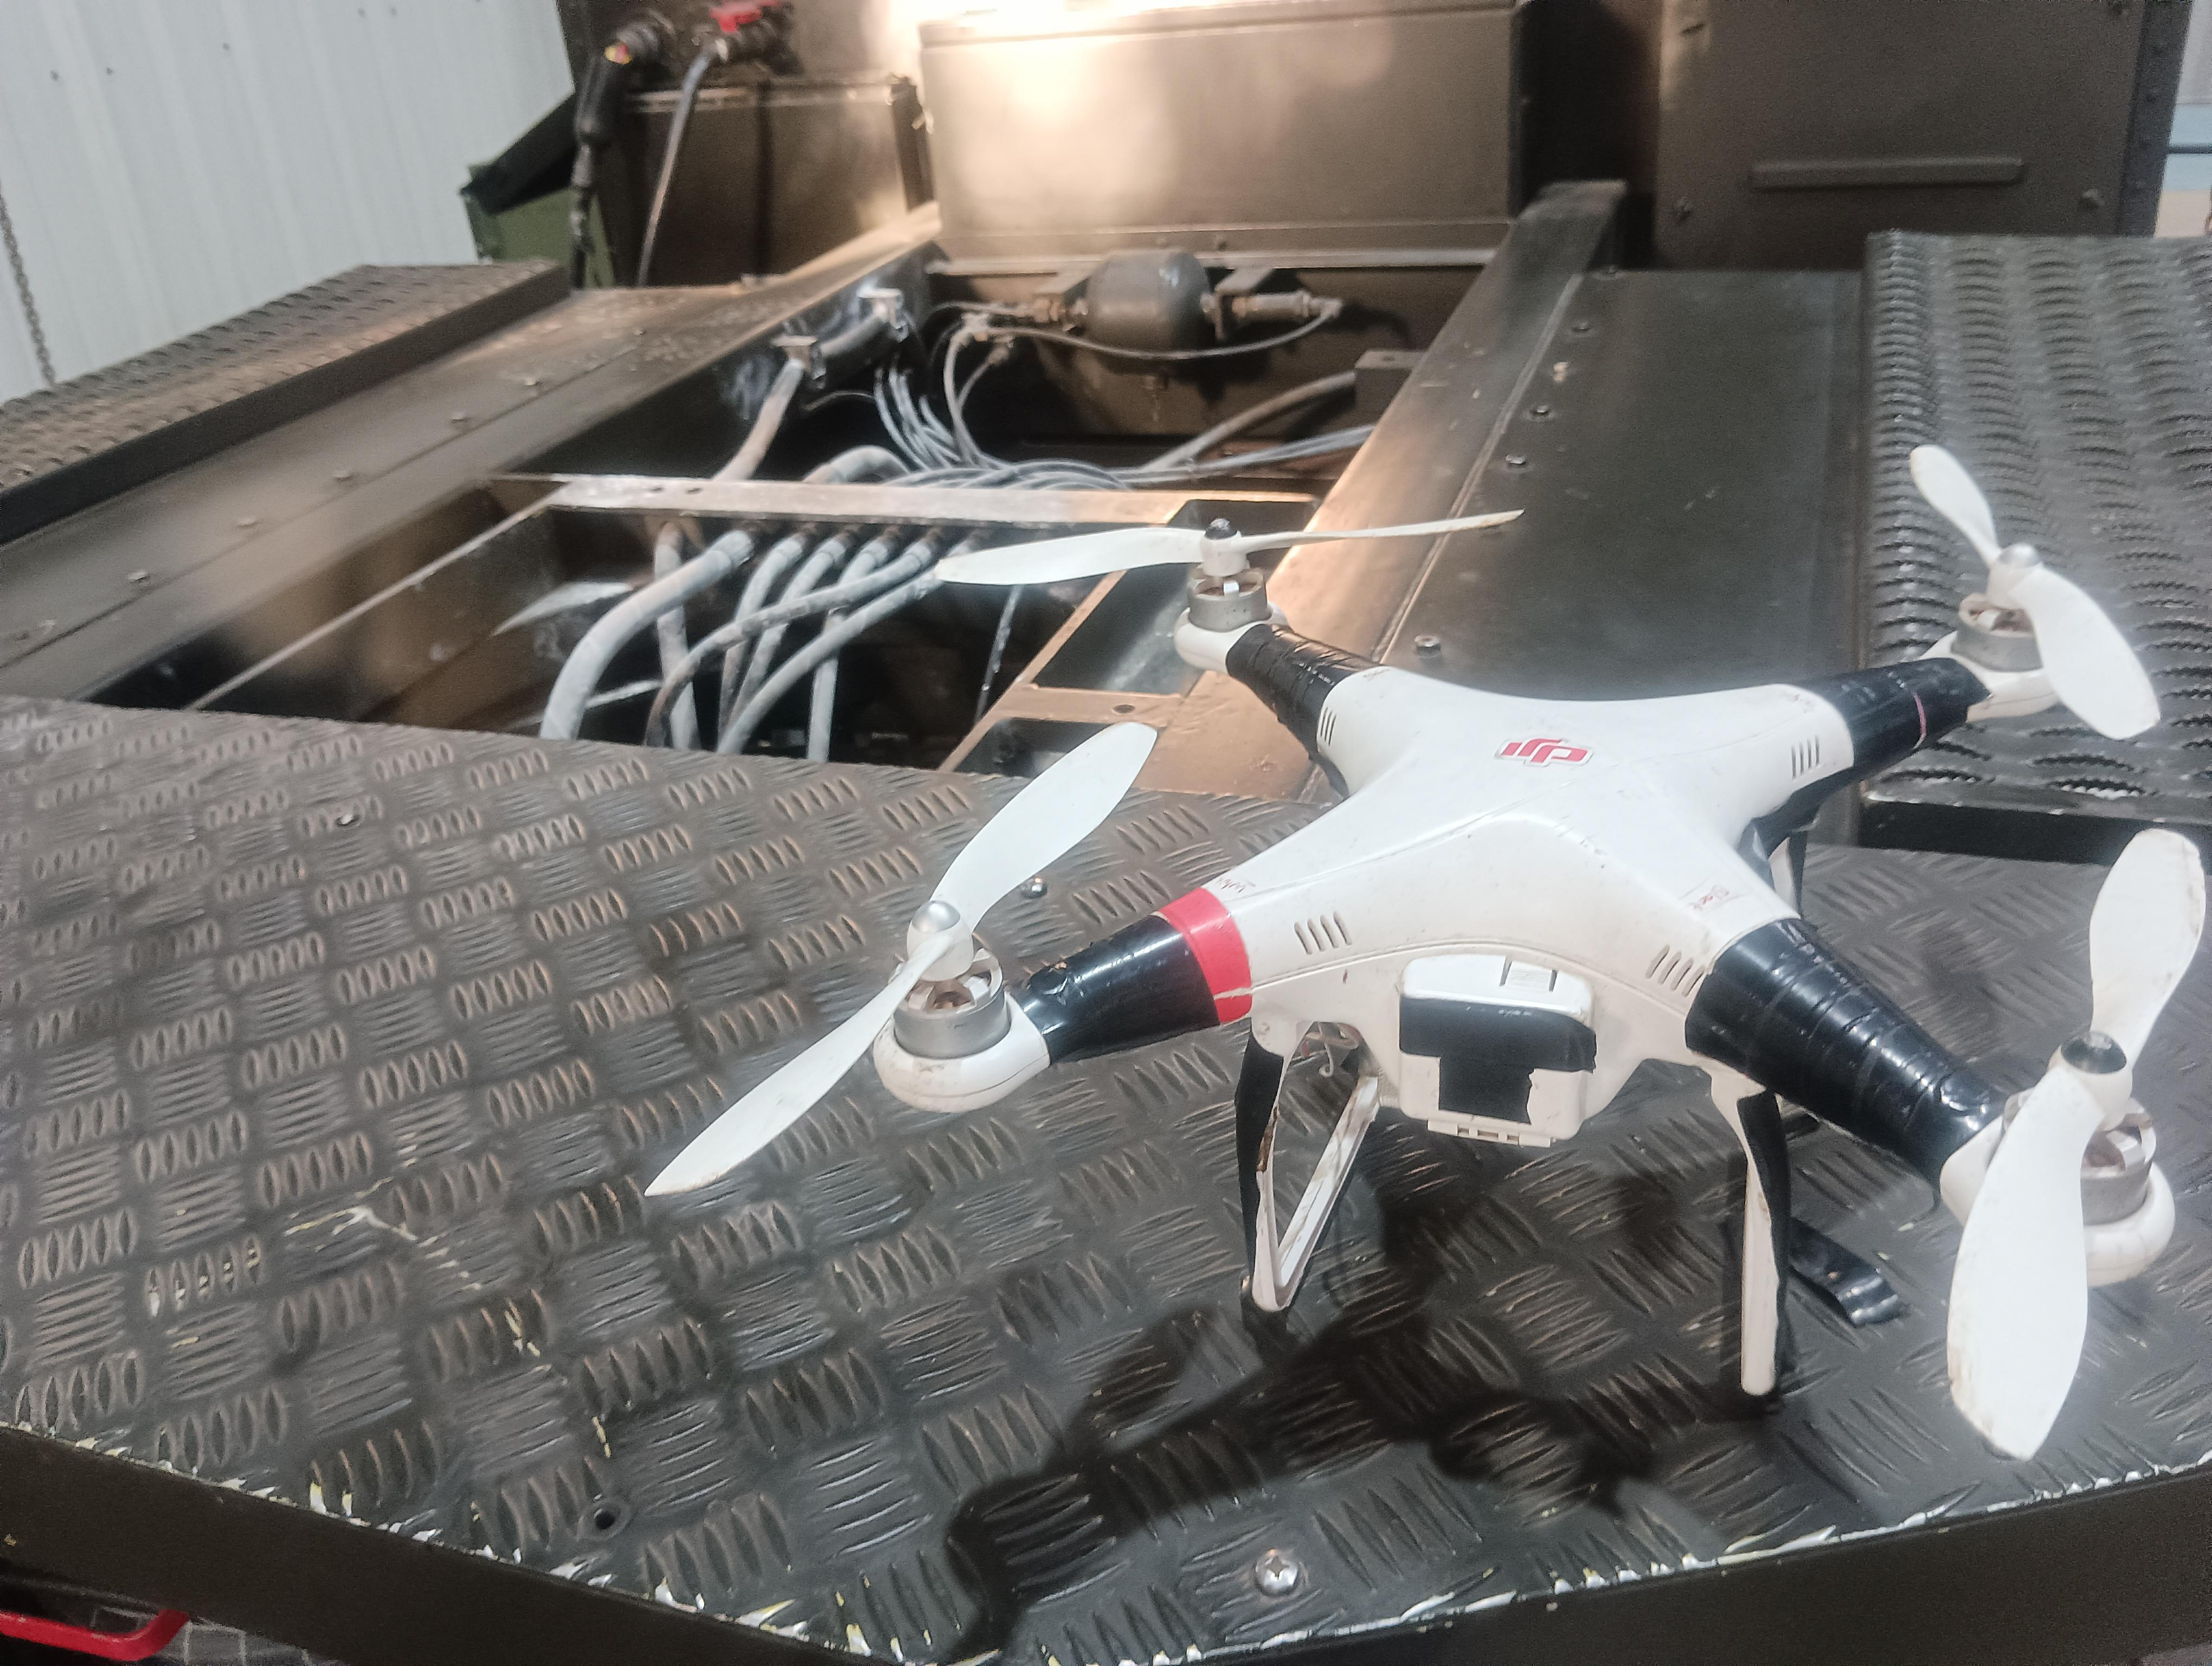drone: (860, 495, 2181, 1398)
